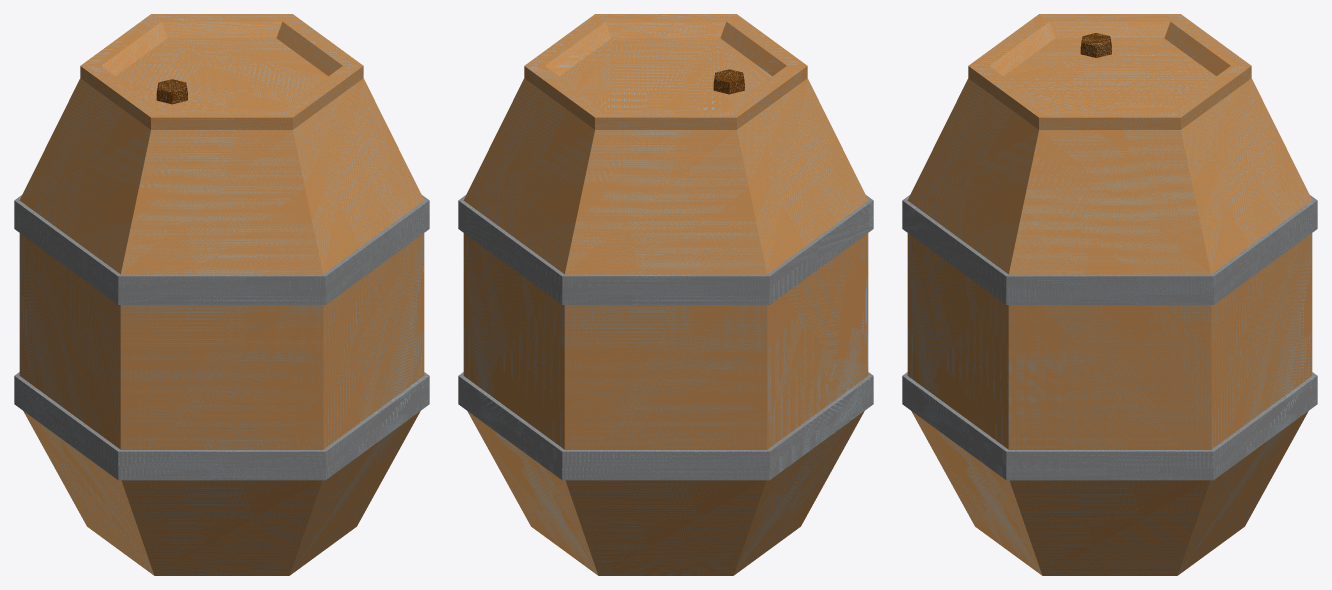
The model's file is Barrel2.fbx.
3 renders of one model, left to right at view 1: azimuth 30°, elevation 25°; view 2: azimuth 150°, elevation 25°; view 3: azimuth 270°, elevation 25°, orthographic.
Visible parts, largest first — view 1: Group2, Group4, Group5, Group3; view 2: Group2, Group4, Group5, Group3; view 3: Group2, Group4, Group5, Group3.
Boxes of the visible parts, x1=… form: Group2: x1=19, y1=14, x2=424, y2=575; Group4: x1=14, y1=195, x2=429, y2=304; Group5: x1=14, y1=372, x2=429, y2=480; Group3: x1=156, y1=79, x2=187, y2=104; Group2: x1=463, y1=14, x2=868, y2=575; Group4: x1=458, y1=195, x2=873, y2=304; Group5: x1=458, y1=372, x2=873, y2=480; Group3: x1=713, y1=69, x2=744, y2=94; Group2: x1=907, y1=14, x2=1312, y2=575; Group4: x1=902, y1=195, x2=1317, y2=304; Group5: x1=902, y1=372, x2=1317, y2=480; Group3: x1=1080, y1=33, x2=1111, y2=57.
Size of the model in its own units: 600 by 848 by 692.
